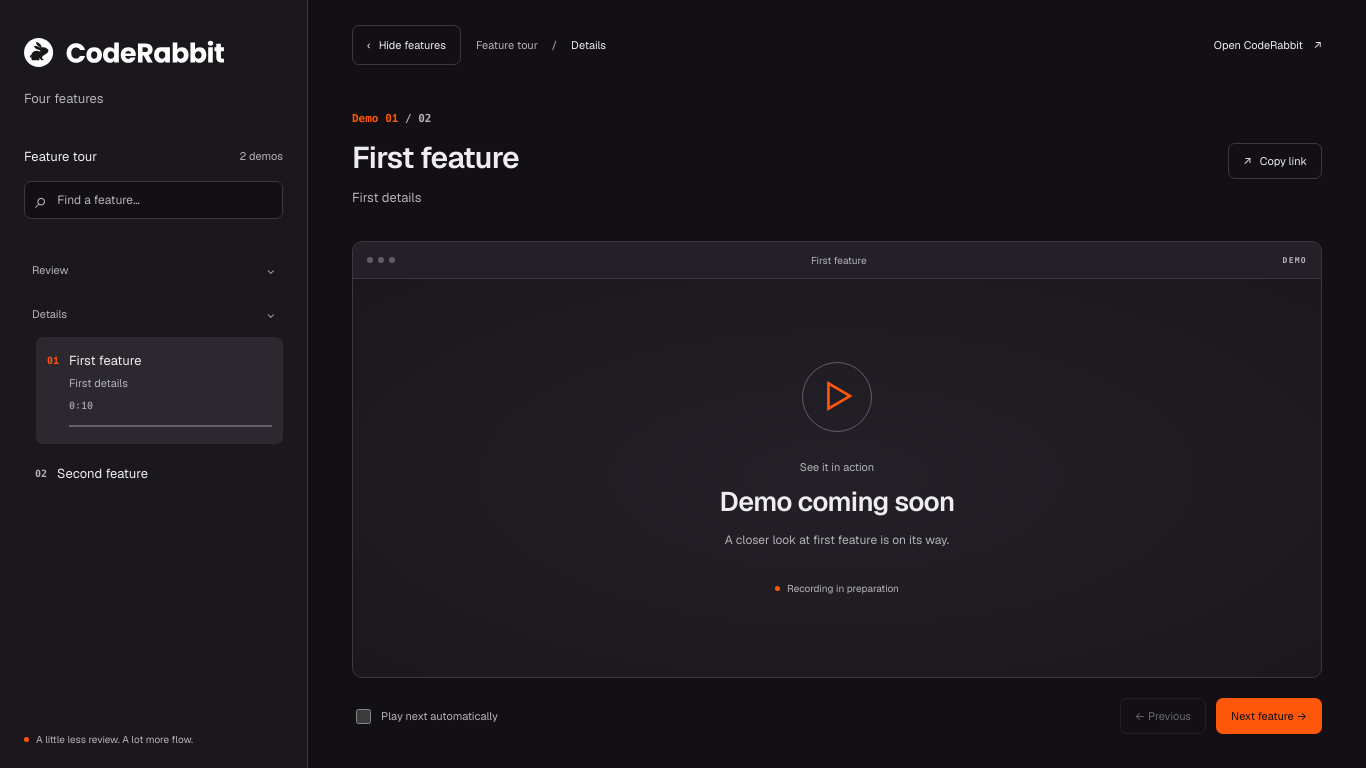
Test: tour navigation › opens nested ancestors, renders pending media, and navigates with shareable URLs
The width and height of the screenshot is (1366, 768).
Expected: the heading "First feature" is shown, [352,140,519,175]
Expected: the button "← Previous" is disabled, [1120,698,1206,734]
Click the button "Next feature →".
click(1269, 716)  # box [1216,698,1322,734]
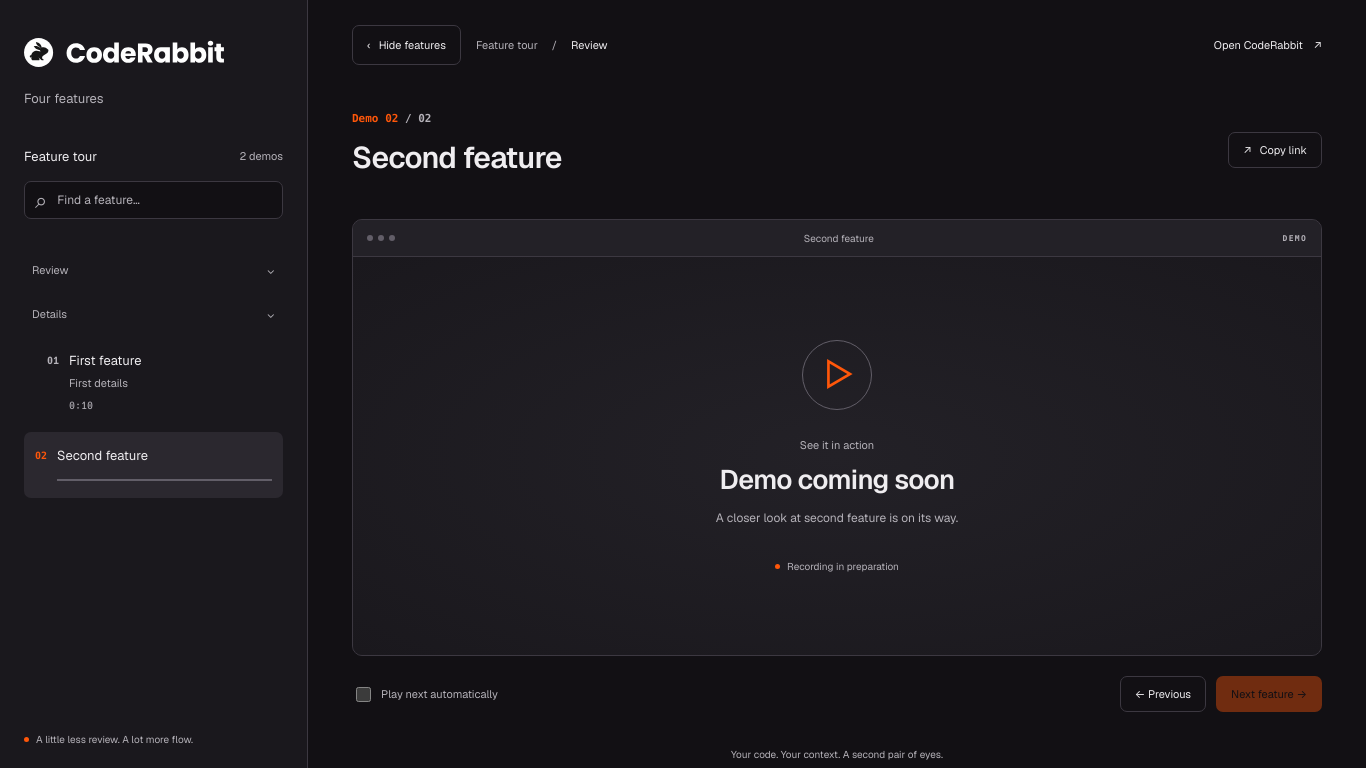
Result: the button "Next feature →" is disabled at [1216,676,1322,712]
Click the button "← Previous".
click(1163, 694)  # box [1120,676,1206,712]
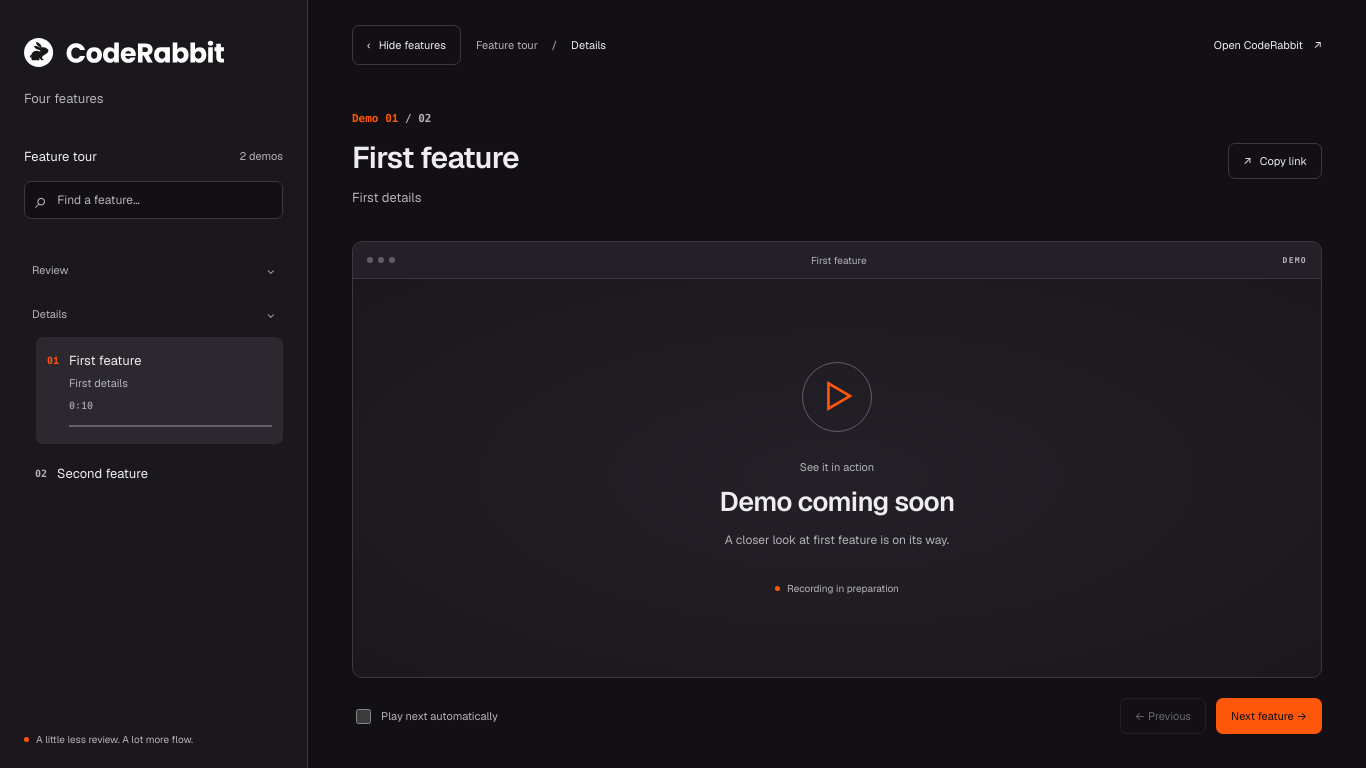
Click the button "02 Second feature".
click(154, 476)  # box [24,450,283,503]
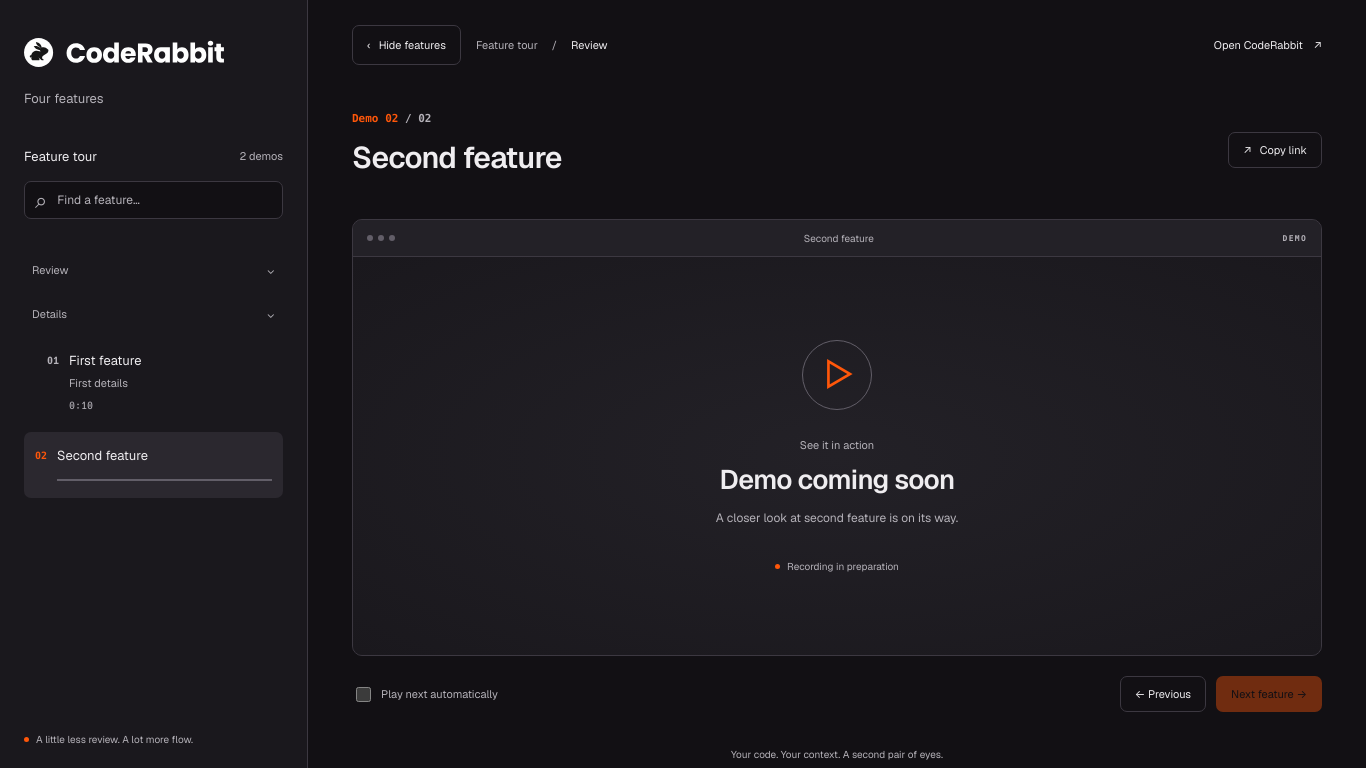
Result: the heading "Second feature" is shown at [352,140,562,175]
